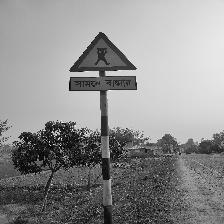Market-in-front: (69, 32, 138, 92)
